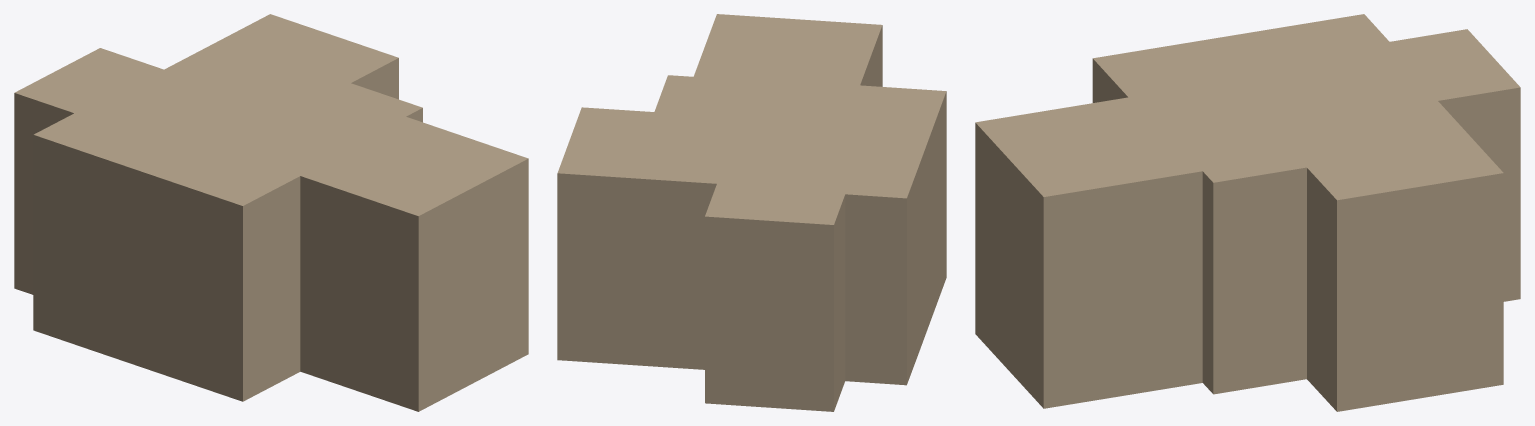
The model's file is bld_106339007.dae.
The picture shows the model from 3 angles, left to right: view 1: azimuth 30°, elevation 25°; view 2: azimuth 150°, elevation 25°; view 3: azimuth 270°, elevation 25°; orthographic projection. The views are drawn at different scales.
Visible parts, largest first — view 1: bld_106339007; view 2: bld_106339007; view 3: bld_106339007.
Boxes of the visible parts, x1=… form: bld_106339007: x1=14, y1=14, x2=528, y2=411; bld_106339007: x1=557, y1=14, x2=946, y2=411; bld_106339007: x1=975, y1=14, x2=1520, y2=411.
Size of the model in its own units: 15.1 by 18.68 by 8.
